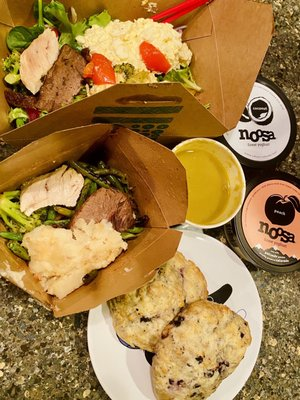sandwich: (0, 83, 187, 155)
soup: (0, 123, 192, 319)
